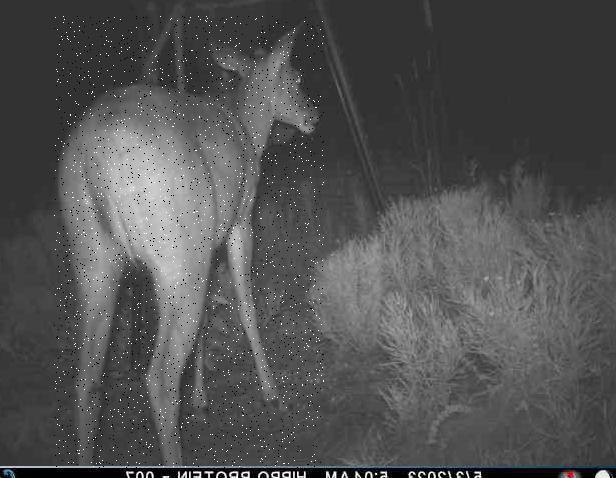Deer: (54, 16, 324, 468)
